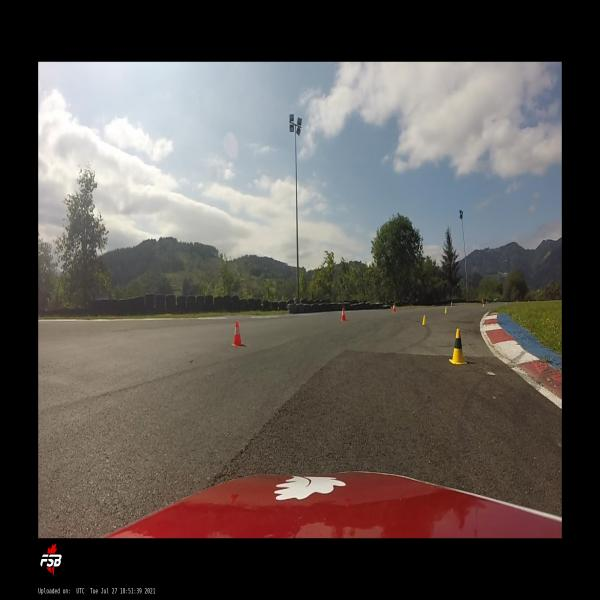orange_cone: (232, 321, 244, 346), (340, 307, 346, 321), (392, 304, 396, 312), (482, 303, 484, 308), (450, 302, 452, 306)
unknown_cone: (422, 315, 426, 326), (444, 306, 448, 314)
yellow_cone: (448, 328, 468, 365)
